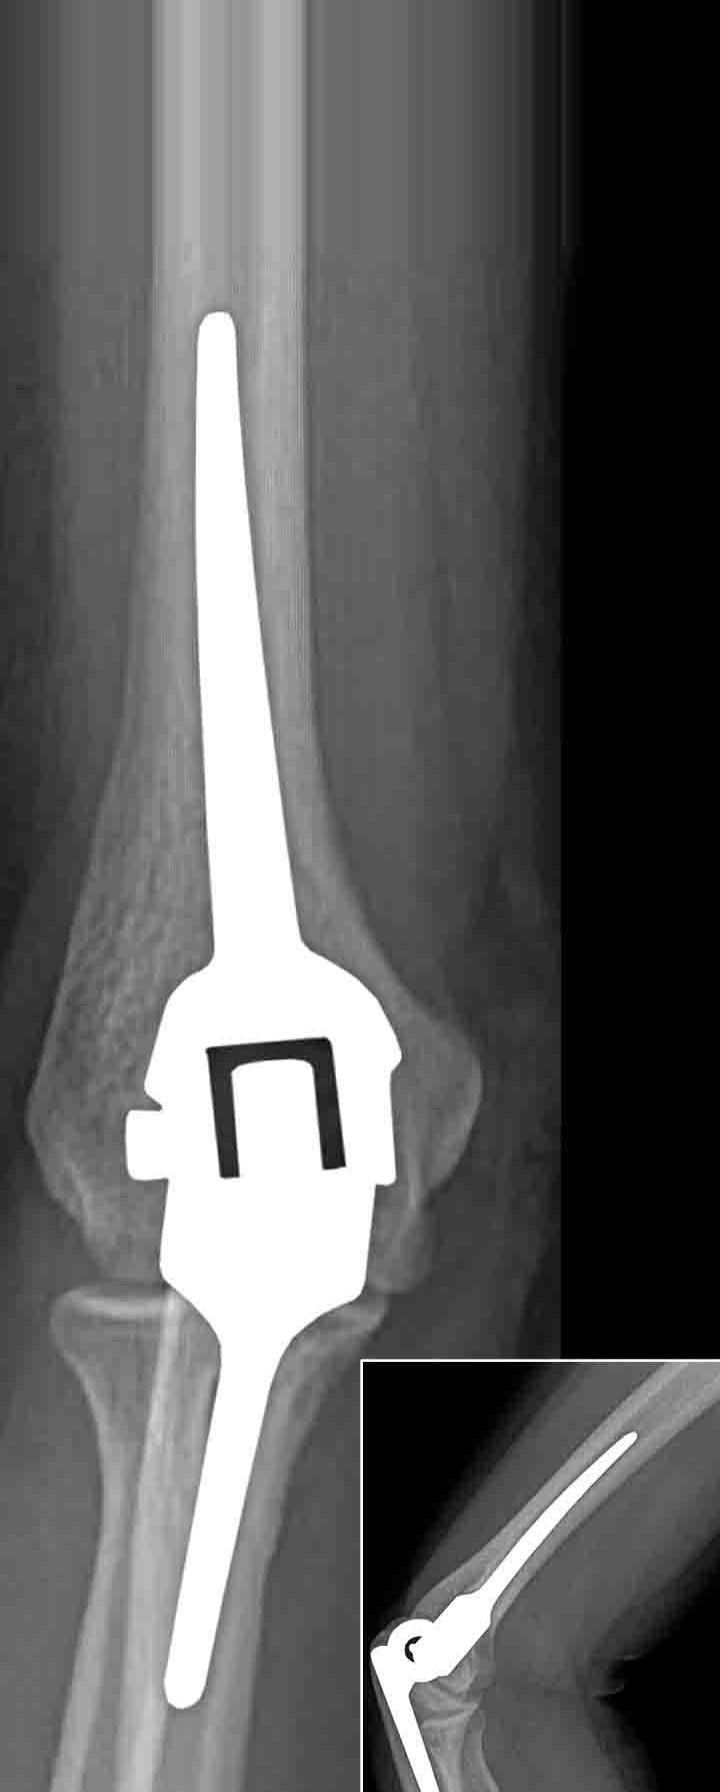Elbow - Osteonics - Stryker: (111, 283, 408, 1598), (368, 1429, 658, 1792)
